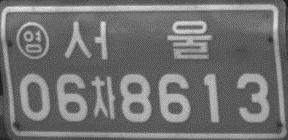0: (18, 71, 51, 122)
1: (196, 72, 228, 123)
3: (235, 72, 270, 123)
6: (157, 71, 191, 123), (55, 72, 89, 123)
8: (118, 72, 152, 123)
서울_D: (63, 19, 213, 60)
영: (14, 20, 50, 60)
차: (90, 76, 117, 121)
